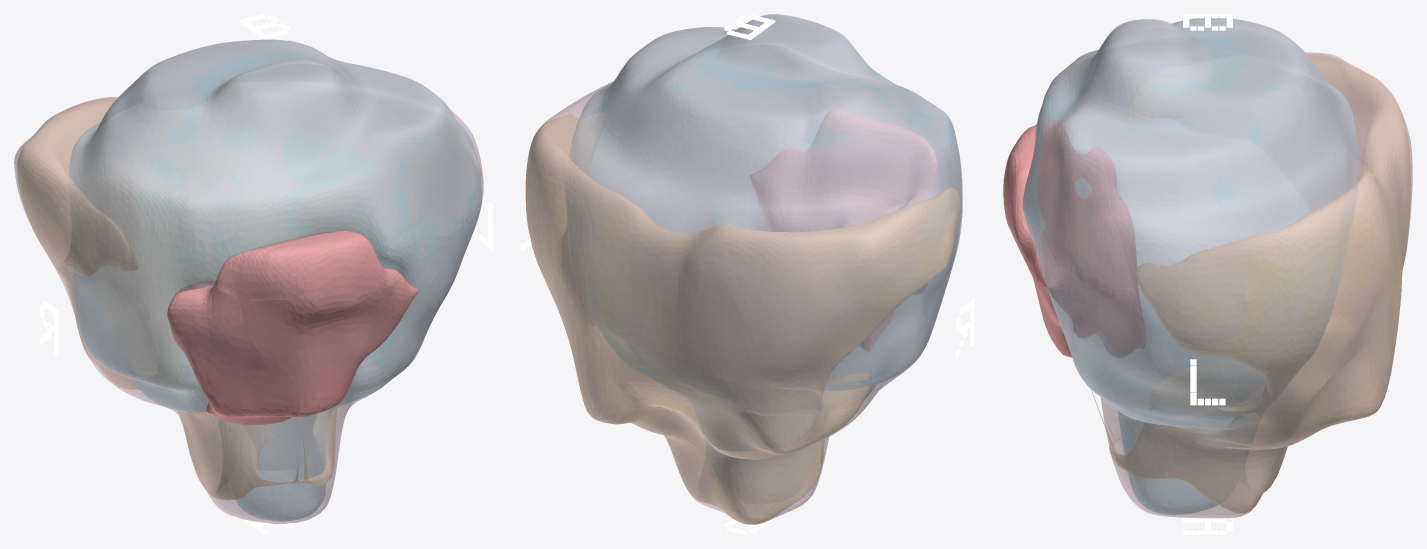
3 renders of one model, left to right at view 1: azimuth 30°, elevation 25°; view 2: azimuth 150°, elevation 25°; view 3: azimuth 270°, elevation 25°, orthographic.
Visible parts, largest first — view 1: prostate_gland, transition_zone, lesion_01, peripheral_zone, pv_ar_marker_B, pv_ar_marker_R; view 2: prostate_gland, peripheral_zone, transition_zone, lesion_01, pv_ar_marker_B, pv_ar_marker_R; view 3: prostate_gland, transition_zone, peripheral_zone, lesion_01, pv_ar_marker_B, pv_ar_marker_L, pv_ar_marker_A.
Boxes of the visible parts, x1=… form: prostate_gland: x1=14, y1=39, x2=483, y2=523; transition_zone: x1=69, y1=39, x2=481, y2=521; lesion_01: x1=167, y1=230, x2=418, y2=425; peripheral_zone: x1=17, y1=98, x2=480, y2=499; pv_ar_marker_B: x1=239, y1=14, x2=289, y2=39; pv_ar_marker_R: x1=39, y1=300, x2=58, y2=355; prostate_gland: x1=525, y1=14, x2=962, y2=524; peripheral_zone: x1=525, y1=112, x2=959, y2=524; transition_zone: x1=569, y1=15, x2=961, y2=441; lesion_01: x1=750, y1=110, x2=936, y2=351; pv_ar_marker_B: x1=724, y1=14, x2=775, y2=39; pv_ar_marker_R: x1=955, y1=299, x2=974, y2=356; prostate_gland: x1=1022, y1=17, x2=1412, y2=518; transition_zone: x1=1022, y1=18, x2=1358, y2=514; peripheral_zone: x1=1091, y1=53, x2=1410, y2=513; lesion_01: x1=1003, y1=120, x2=1145, y2=357; pv_ar_marker_B: x1=1183, y1=14, x2=1232, y2=30; pv_ar_marker_L: x1=1190, y1=359, x2=1225, y2=405; pv_ar_marker_A: x1=1183, y1=518, x2=1232, y2=534.
Size of the model in its own units: 0.0573 by 0.0625 by 0.0459.
